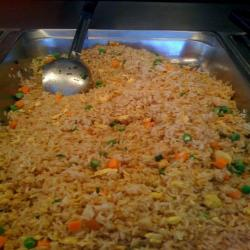rice: (29, 101, 233, 243)
